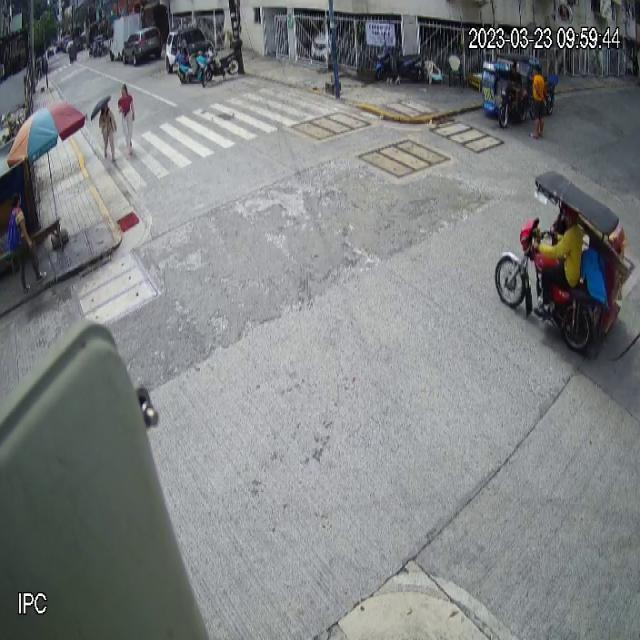Tricycle: (494, 169, 636, 352), (482, 53, 530, 129)
